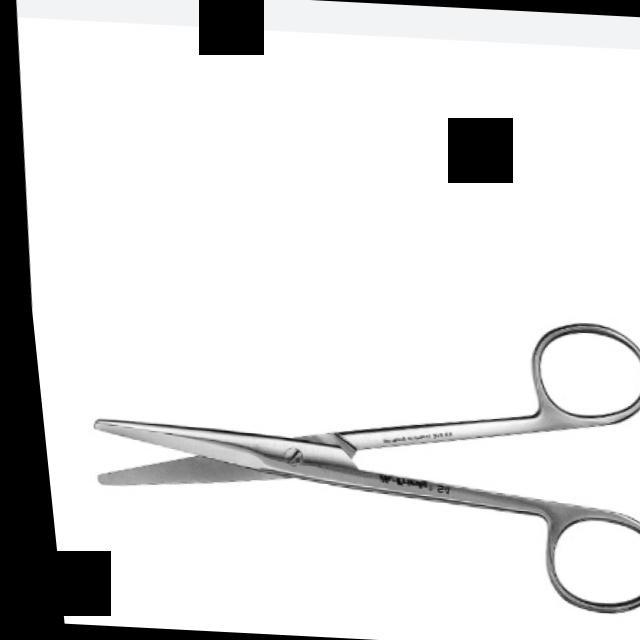Straight Mayo: (60, 293, 640, 619)
